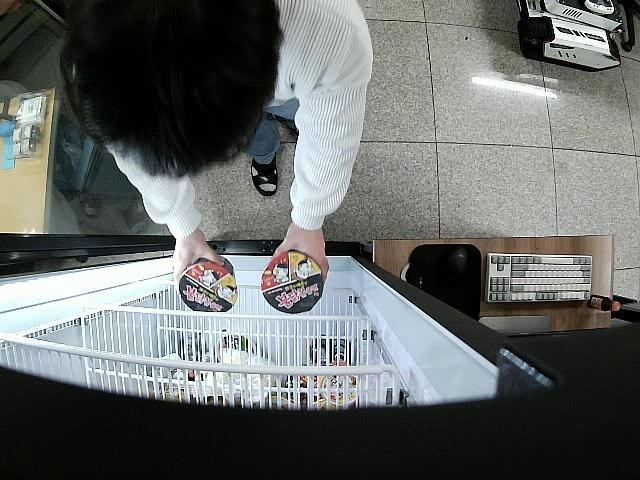07_buldak_L: (261, 252, 325, 314), (179, 256, 238, 313)
